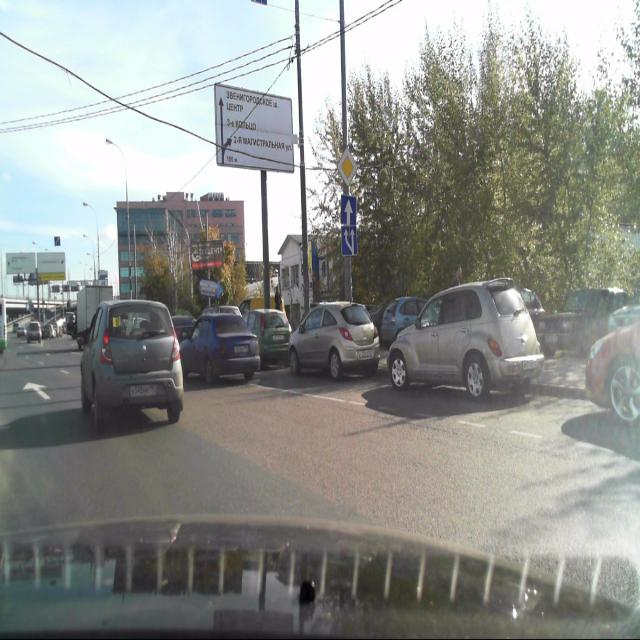road sign: (336, 147, 358, 187), (340, 190, 358, 227), (340, 226, 357, 257)
